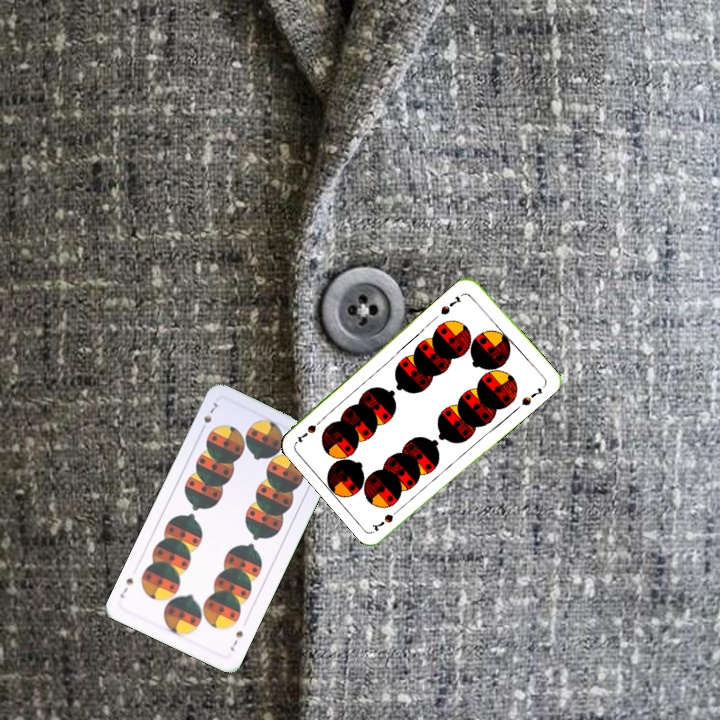S7: (368, 503, 404, 534), (196, 398, 220, 435), (436, 291, 464, 317), (226, 627, 246, 654)
